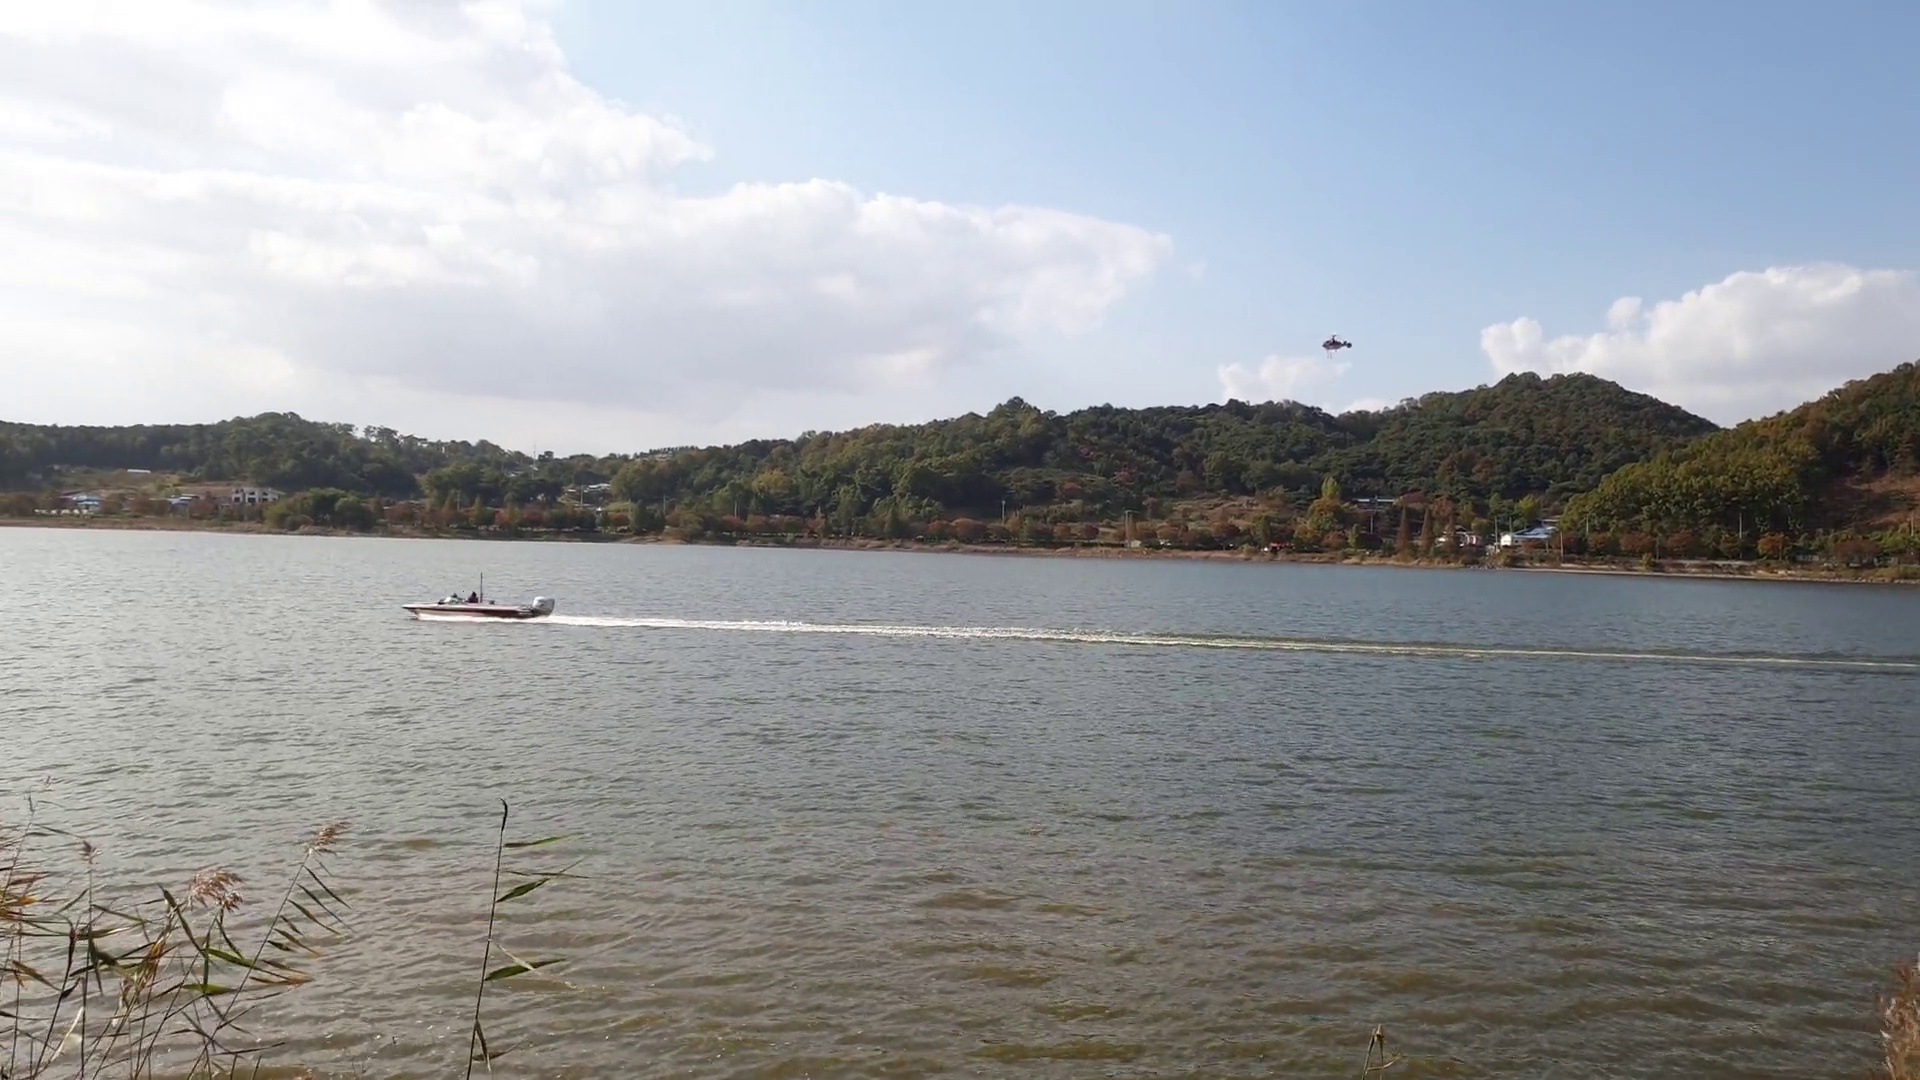heli: (1317, 332, 1352, 352)
